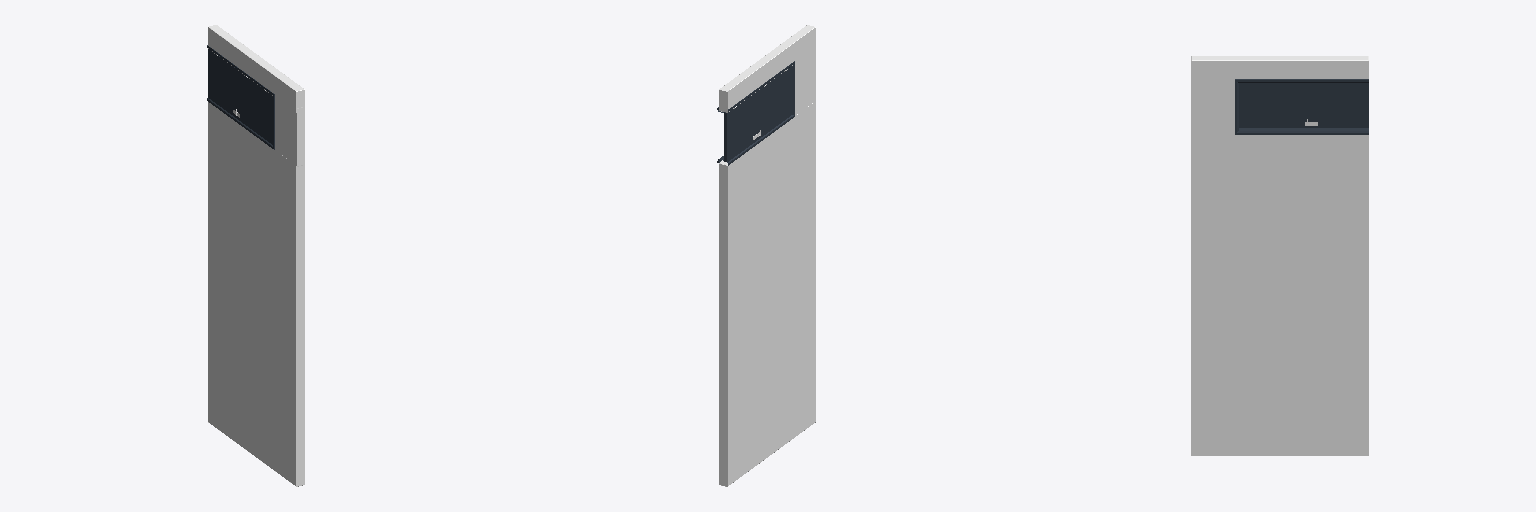
File: front-wall.obj
3 views of the same model, side by side, from view 1: azimuth 30°, elevation 25°; view 2: azimuth 150°, elevation 25°; view 3: azimuth 270°, elevation 25° (orthographic).
Size of the model in its own units: 0.21 by 6.41 by 2.6.